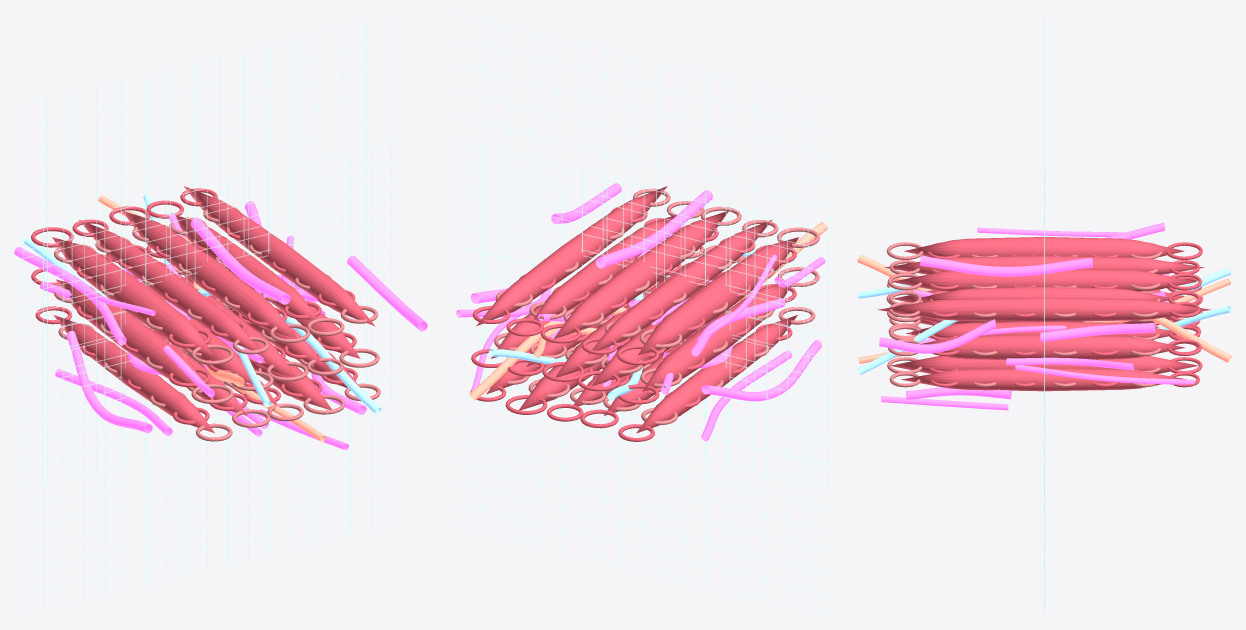
Rendered from heart-tissue-responding-1.glb.
The picture shows the model from 3 angles, left to right: view 1: azimuth 30°, elevation 25°; view 2: azimuth 150°, elevation 25°; view 3: azimuth 270°, elevation 25°; orthographic projection. The views are drawn at different scales.
Parts seen in each view (by area): view 1: ECM_Bot, ECM_Top, Fibre_12, Fibre_14, Fibre_10, Fibre_11, Fibre_0, Fibre_5, Fibre_13, CapVen1, Amy_11, Amy_8 (+12 smaller); view 2: ECM_Bot, ECM_Top, Fibre_12, Fibre_14, Fibre_10, Fibre_11, Fibre_0, Fibre_5, Fibre_13, Amy_11, CapArt1, Amy_8 (+13 smaller); view 3: Fibre_14, Fibre_10, Fibre_9, Fibre_12, Fibre_4, Fibre_11, Fibre_13, Fibre_3, Amy_11, Fibre_8, Amy_3, Amy_24 (+9 smaller).
Boxes of the visible parts, bbox=[...] form: ECM_Bot: bbox=[23, 140, 391, 615]; ECM_Top: bbox=[23, 14, 391, 489]; Fibre_12: bbox=[122, 210, 296, 338]; Fibre_14: bbox=[184, 186, 375, 326]; Fibre_10: bbox=[52, 237, 213, 355]; Fibre_11: bbox=[79, 219, 262, 354]; Fibre_0: bbox=[53, 315, 214, 433]; Fibre_5: bbox=[56, 279, 200, 387]; Fibre_13: bbox=[175, 215, 320, 323]; CapVen1: bbox=[24, 237, 381, 414]; Amy_11: bbox=[190, 217, 290, 304]; Amy_8: bbox=[66, 331, 152, 433]; ECM_Bot: bbox=[459, 140, 828, 615]; ECM_Top: bbox=[459, 14, 828, 489]; Fibre_12: bbox=[554, 210, 729, 338]; Fibre_14: bbox=[476, 186, 667, 326]; Fibre_10: bbox=[638, 237, 799, 355]; Fibre_11: bbox=[588, 219, 772, 354]; Fibre_0: bbox=[636, 315, 797, 433]; Fibre_5: bbox=[642, 284, 790, 391]; Fibre_13: bbox=[530, 215, 676, 323]; Amy_11: bbox=[595, 190, 712, 268]; CapArt1: bbox=[469, 222, 827, 400]; Amy_8: bbox=[701, 340, 821, 401]; Fibre_14: bbox=[877, 297, 1211, 321]; Fibre_10: bbox=[904, 237, 1184, 257]; Fibre_9: bbox=[920, 334, 1184, 359]; Fibre_12: bbox=[891, 269, 1197, 291]; Fibre_4: bbox=[901, 368, 1187, 391]; Fibre_11: bbox=[884, 256, 1204, 274]; Fibre_13: bbox=[914, 287, 1174, 301]; Fibre_3: bbox=[891, 355, 1198, 373]; Amy_11: bbox=[920, 256, 1092, 276]; Fibre_8: bbox=[905, 321, 1177, 338]; Amy_3: bbox=[1040, 323, 1154, 342]; Amy_24: bbox=[879, 319, 996, 353].
Bounding box in the file's own units: 4 × 5.3 × 4.04.
